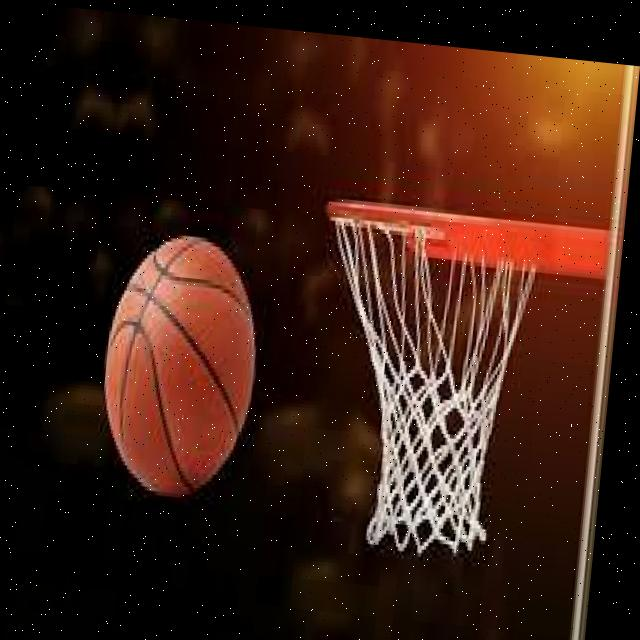basketball: (95, 229, 266, 500)
hoop: (296, 198, 543, 562)
